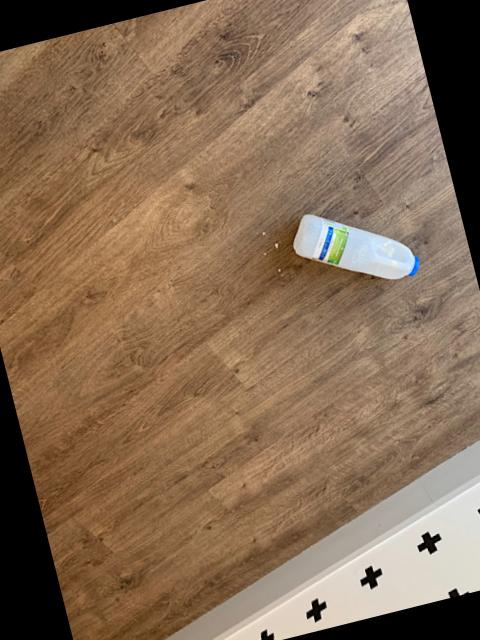plastic: (292, 215, 418, 279)
